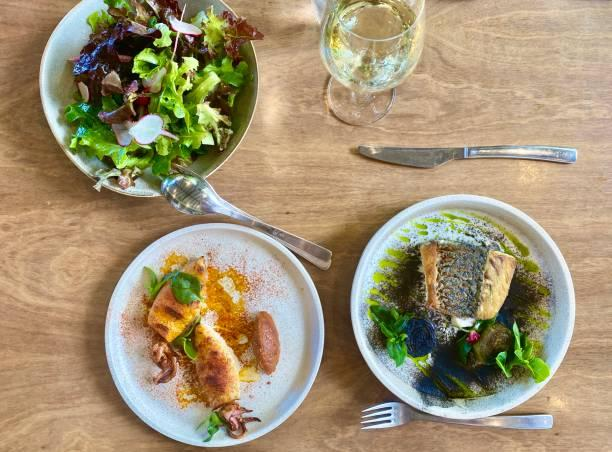Braised Crucian Carp: (350, 193, 573, 419), (102, 224, 320, 446), (38, 3, 253, 198)
